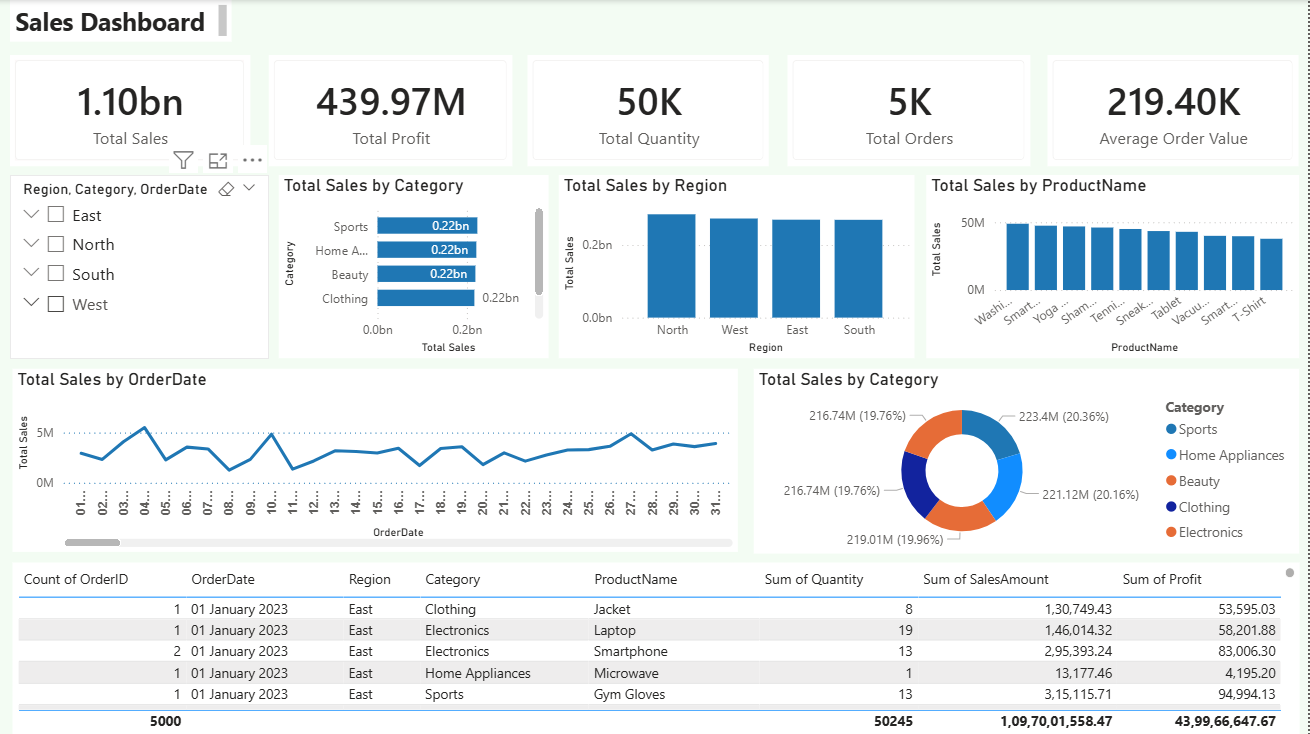

The page's visual inventory and layout, read from the dashboard file:
{"tool":"powerbi","page":{"name":"Page 1","canvas":[1280,720],"ordinal":0},"visuals":[{"type":"textbox","box":[9.6,0,216.9,41],"z":0},{"type":"cardVisual","fields":{"Data":["large_sales_dataset_5k.Total Sales"]},"box":[9.6,54.2,234.9,108.4],"z":1000},{"type":"cardVisual","fields":{"Data":["large_sales_dataset_5k.Total Quantity"]},"box":[515.7,54.2,236.1,108.4],"z":2000},{"type":"cardVisual","fields":{"Data":["large_sales_dataset_5k.Total Profit"]},"box":[262.7,54.2,238.6,108.4],"z":3000},{"type":"cardVisual","fields":{"Data":["large_sales_dataset_5k.Total Orders"]},"box":[769.9,54.2,237.3,108.4],"z":4000},{"type":"cardVisual","fields":{"Data":["large_sales_dataset_5k.Average Order Value"]},"box":[1025.3,54.2,245.8,108.4],"z":5000},{"type":"lineChart","fields":{"Y":["large_sales_dataset_5k.Total Sales"],"Category":["large_sales_dataset_5k.OrderDate.Variation.Date Hierarchy.Month"]},"box":[12,360.2,709.6,179.5],"z":6000},{"type":"clusteredColumnChart","fields":{"Category":["large_sales_dataset_5k.Region"],"Y":["large_sales_dataset_5k.Total Sales"]},"box":[547,171.1,348.2,179.5],"z":7000},{"type":"donutChart","fields":{"Category":["large_sales_dataset_5k.Category"],"Y":["large_sales_dataset_5k.Total Sales"]},"box":[737.3,360.2,533.7,180.7],"z":8000},{"type":"columnChart","fields":{"Category":["large_sales_dataset_5k.ProductName"],"Y":["large_sales_dataset_5k.Total Sales"]},"box":[906,171.1,365.1,179.5],"z":9000},{"type":"tableEx","fields":{"Values":["CountNonNull(large_sales_dataset_5k.OrderID)","large_sales_dataset_5k.OrderDate.Variation.Date Hierarchy.Year","large_sales_dataset_5k.Region","large_sales_dataset_5k.Category","large_sales_dataset_5k.ProductName","Sum(large_sales_dataset_5k.Quantity)","Sum(large_sales_dataset_5k.SalesAmount)","Sum(large_sales_dataset_5k.Profit)"]},"box":[12,550.6,1259,169.9],"z":10000},{"type":"slicer","fields":{"Values":["large_sales_dataset_5k.Region","large_sales_dataset_5k.Category","large_sales_dataset_5k.OrderDate"]},"box":[9.6,171.1,253,179.5],"z":11000},{"type":"barChart","fields":{"Category":["large_sales_dataset_5k.Category","large_sales_dataset_5k.ProductName"],"Y":["large_sales_dataset_5k.Total Sales"]},"box":[272.3,171.1,263.9,179.5],"z":12000}]}

Visuals, with their boxes in screenshot pixels (x1, y1, x2, y2), scaled from the page's 1280x720 canvas onto the 1310x734 screenshot:
textbox: (x1=10, y1=0, x2=232, y2=42)
cardVisual - large_sales_dataset_5k.Total Sales: (x1=10, y1=55, x2=250, y2=166)
cardVisual - large_sales_dataset_5k.Total Quantity: (x1=528, y1=55, x2=769, y2=166)
cardVisual - large_sales_dataset_5k.Total Profit: (x1=269, y1=55, x2=513, y2=166)
cardVisual - large_sales_dataset_5k.Total Orders: (x1=788, y1=55, x2=1031, y2=166)
cardVisual - large_sales_dataset_5k.Average Order Value: (x1=1049, y1=55, x2=1301, y2=166)
lineChart - large_sales_dataset_5k.Total Sales x large_sales_dataset_5k.OrderDate.Variation.Date Hierarchy.Month: (x1=12, y1=367, x2=739, y2=550)
clusteredColumnChart - large_sales_dataset_5k.Region x large_sales_dataset_5k.Total Sales: (x1=560, y1=174, x2=916, y2=357)
donutChart - large_sales_dataset_5k.Category x large_sales_dataset_5k.Total Sales: (x1=755, y1=367, x2=1301, y2=551)
columnChart - large_sales_dataset_5k.ProductName x large_sales_dataset_5k.Total Sales: (x1=927, y1=174, x2=1301, y2=357)
tableEx - CountNonNull(large_sales_dataset_5k.OrderID) x large_sales_dataset_5k.OrderDate.Variation.Date Hierarchy.Year: (x1=12, y1=561, x2=1301, y2=733)
slicer - large_sales_dataset_5k.Region x large_sales_dataset_5k.Category: (x1=10, y1=174, x2=269, y2=357)
barChart - large_sales_dataset_5k.Category x large_sales_dataset_5k.ProductName: (x1=279, y1=174, x2=549, y2=357)
